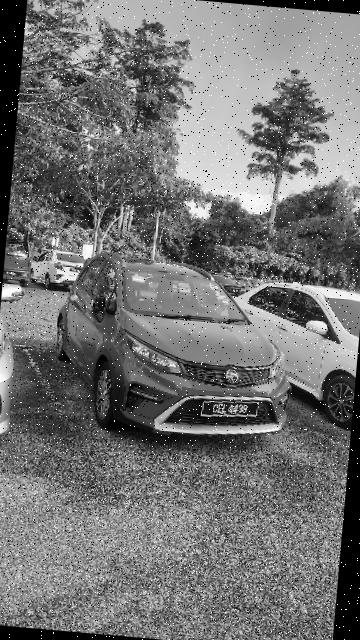License_Plate: (191, 392, 270, 425)
car: (47, 247, 305, 446), (226, 276, 360, 432)
